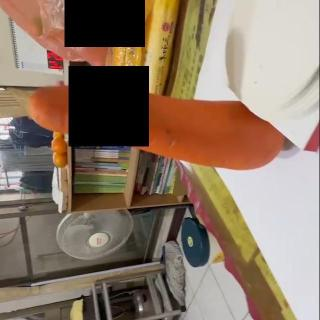carrot: (26, 87, 286, 170)
